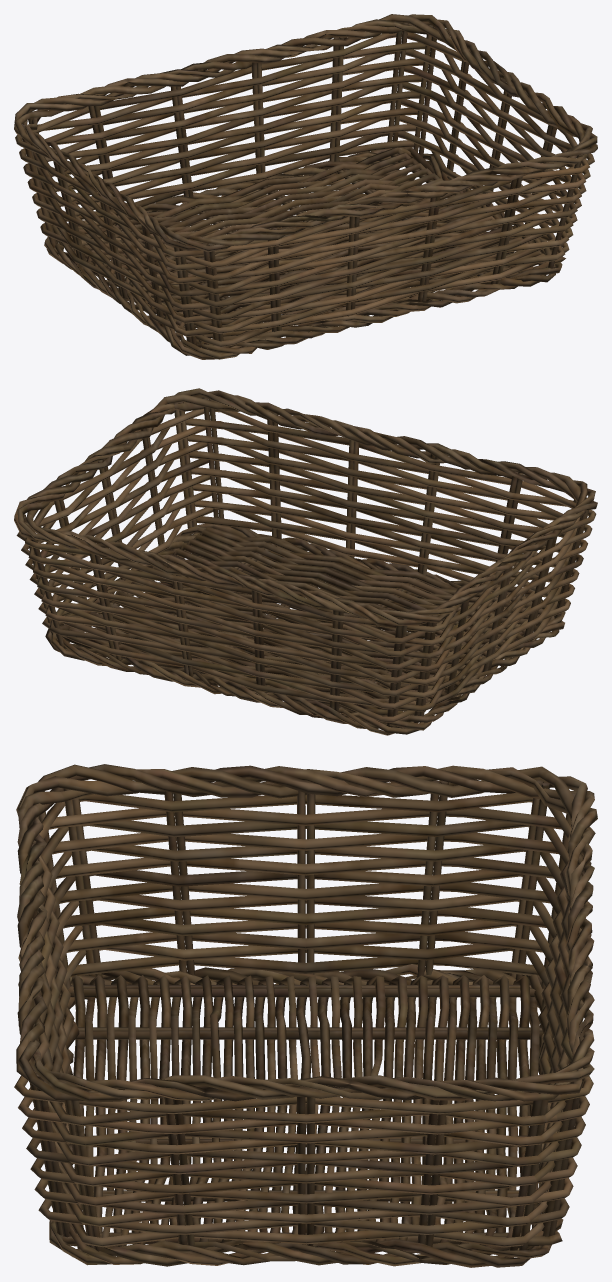
Rendered from wicker_basket_01.lod1.glb.
3 renders of one model, top to bottom at view 1: azimuth 30°, elevation 25°; view 2: azimuth 150°, elevation 25°; view 3: azimuth 270°, elevation 25°, orthographic. The views are drawn at different scales.
Visible parts, largest first — view 1: wicker_basket_01; view 2: wicker_basket_01; view 3: wicker_basket_01.
Boxes of the visible parts, bbox=[...] form: wicker_basket_01: bbox=[14, 14, 597, 359]; wicker_basket_01: bbox=[14, 388, 597, 735]; wicker_basket_01: bbox=[14, 764, 597, 1267].
Size of the model in its own units: 0.383 by 0.1174 by 0.2939.
1 material, 1 textured.
